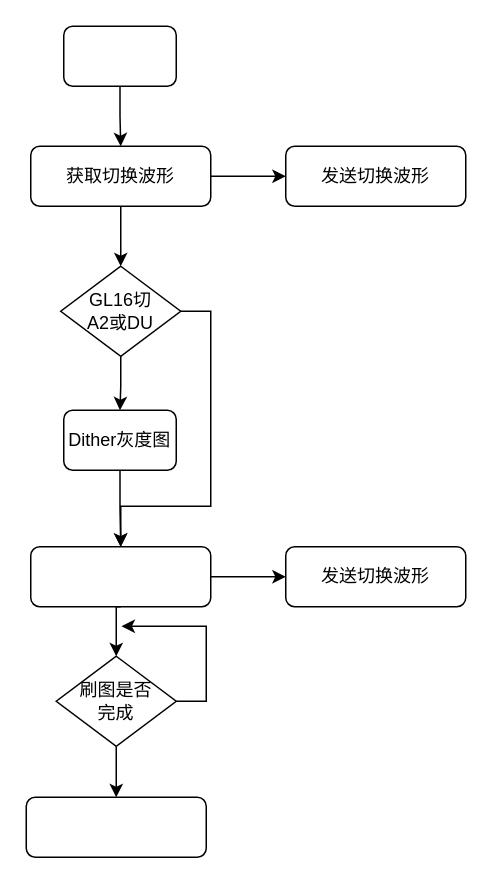
Image size: 492x884. Some labels were removed from this diagram. The centre of each missing label's shape, as x and y in pixels:
"发送切换后的波形" belongs at (x=115, y=826).
"发送刷图命令" belongs at (x=120, y=576).
"模式切换" belongs at (x=119, y=55).
